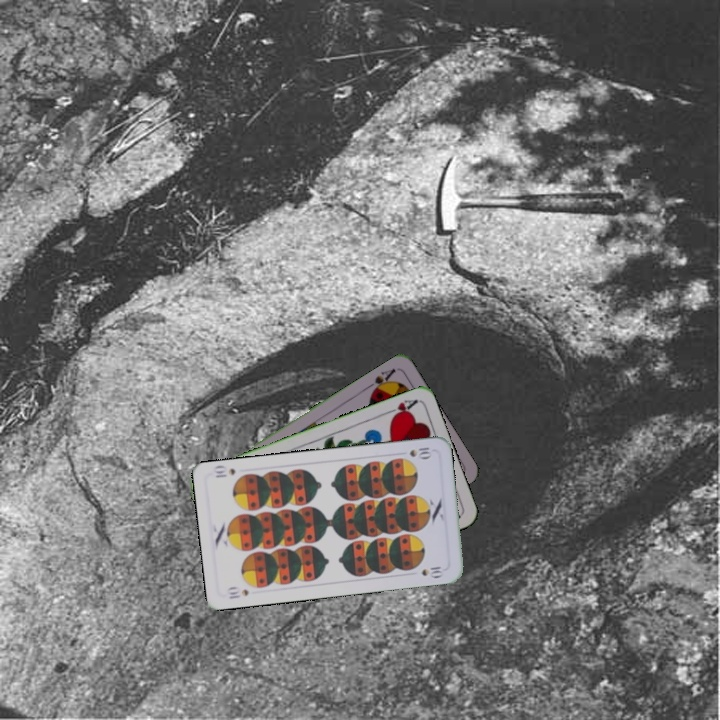HA: (380, 395, 419, 421)
S10: (406, 443, 435, 461), (223, 583, 251, 601)
SA: (362, 364, 398, 397)
